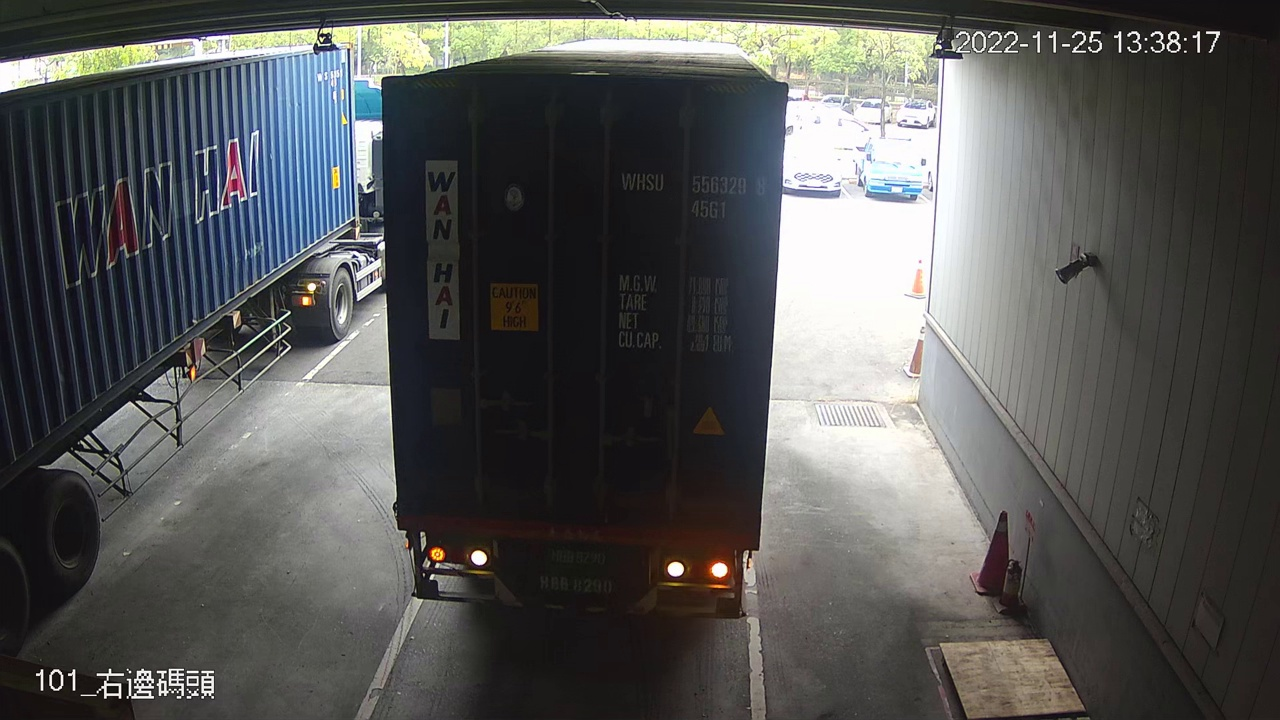container: (616, 164, 775, 227)
